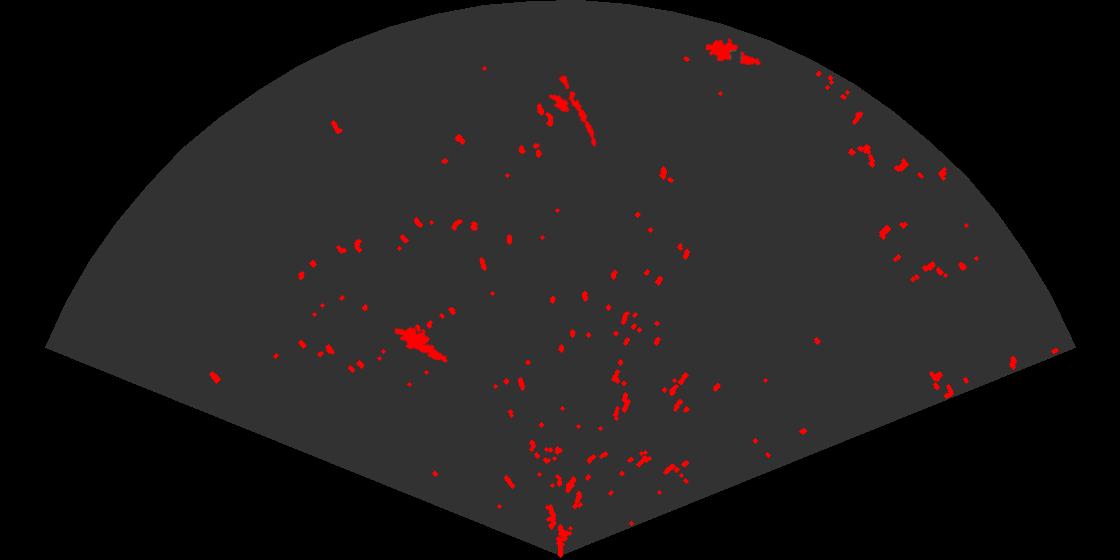AUV: (547, 88, 573, 114)
chain: (555, 67, 598, 149)
frogman: (395, 325, 450, 364), (706, 36, 762, 67)
